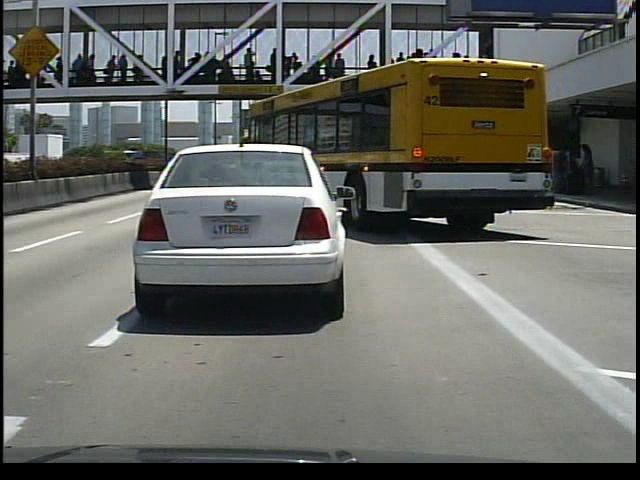person: (574, 141, 602, 201), (554, 138, 577, 199)
